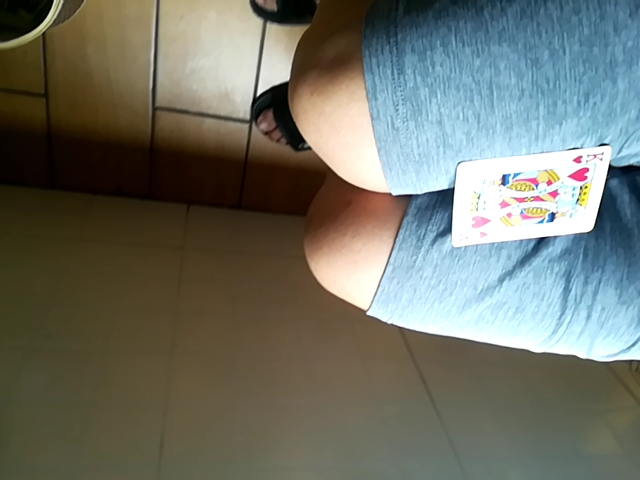hx k: (443, 146, 611, 247)
